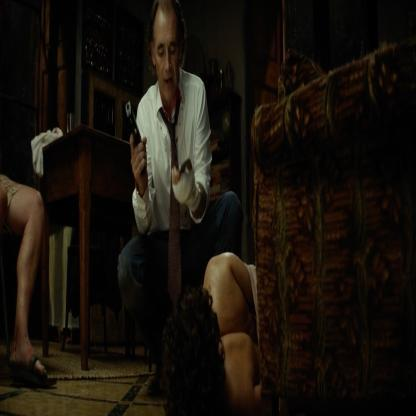gun: (122, 85, 152, 165)
